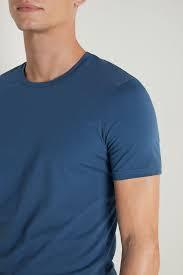Tshirt: (1, 48, 180, 275)
